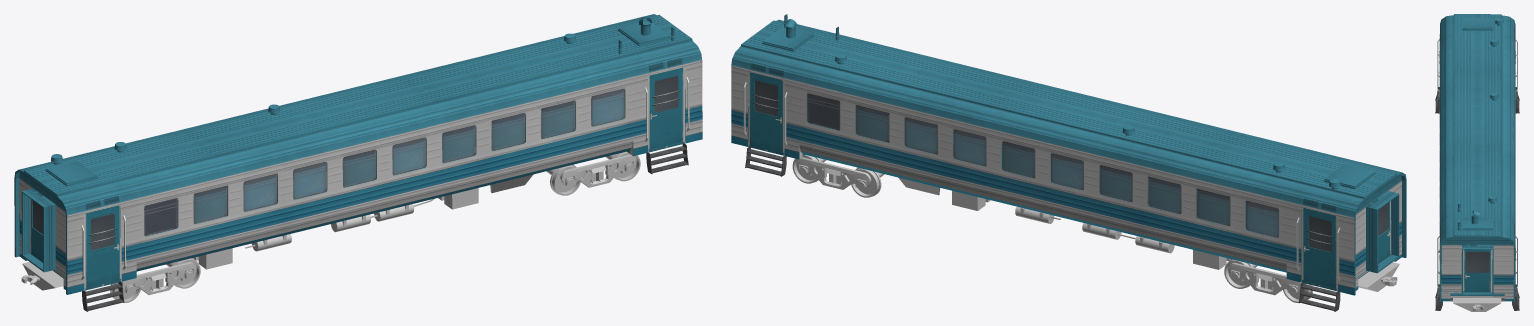
The model's file is Train02aCupe_1Passenger.FBX.
3 views of the same model, side by side, from view 1: azimuth 30°, elevation 25°; view 2: azimuth 150°, elevation 25°; view 3: azimuth 270°, elevation 25° (orthographic). The views are drawn at different scales.
Parts seen in each view (by area): view 1: Train02aCupe_1Passenger, Train02aCupe_1WheelsPas, Train02aCupe_Stairs, Train02aCupe_1Wheel03Pas; view 2: Train02aCupe_1Passenger, Train02aCupe_1WheelsPas, Train02aCupe_Stairs, Train02aCupe_1Wheel03Pas; view 3: Train02aCupe_1Passenger, Train02aCupe_1WheelsPas, Train02aCupe_Stairs.
Part boxes in pixels (left/top/right/bottom): Train02aCupe_1Passenger: left=14, top=14, right=702, bottom=294; Train02aCupe_1WheelsPas: left=21, top=154, right=636, bottom=294; Train02aCupe_Stairs: left=82, top=143, right=688, bottom=311; Train02aCupe_1Wheel03Pas: left=546, top=164, right=581, bottom=195; Train02aCupe_1Passenger: left=731, top=14, right=1406, bottom=295; Train02aCupe_1WheelsPas: left=796, top=157, right=1399, bottom=295; Train02aCupe_Stairs: left=745, top=147, right=1340, bottom=311; Train02aCupe_1Wheel03Pas: left=850, top=167, right=884, bottom=197; Train02aCupe_1Passenger: left=1437, top=14, right=1517, bottom=302; Train02aCupe_1WheelsPas: left=1453, top=298, right=1501, bottom=311; Train02aCupe_Stairs: left=1435, top=87, right=1519, bottom=310.
Bounding box in the file's own units: 1348 × 277 × 206.
